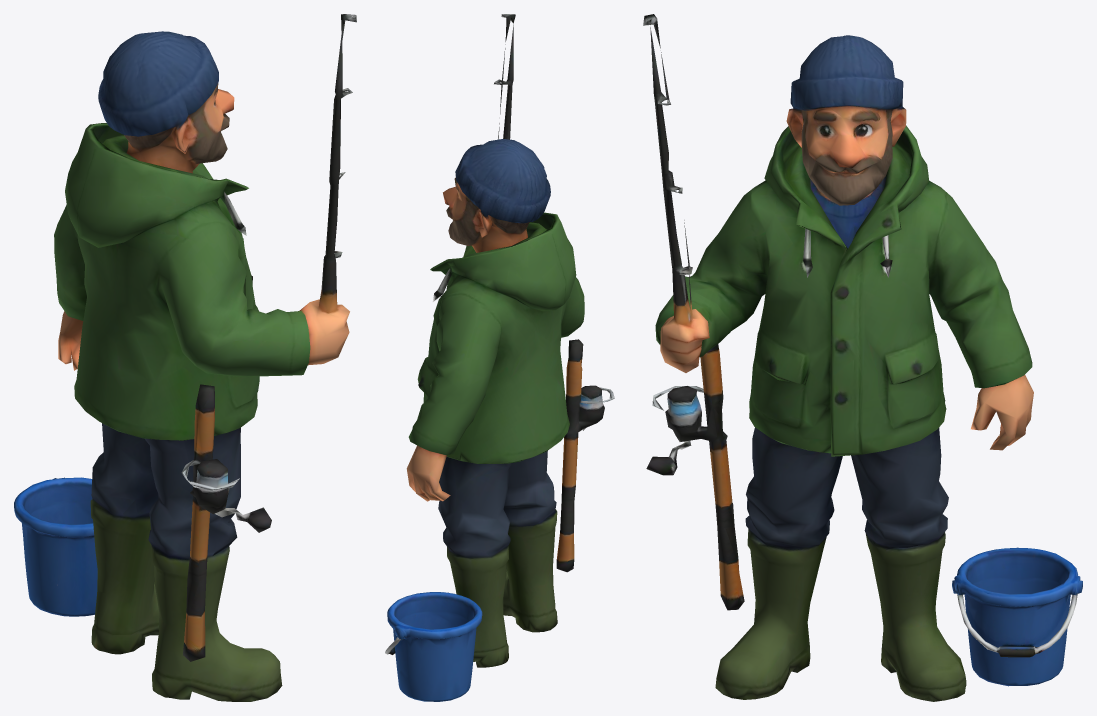
The model's file is m_balikci.glb.
The picture shows the model from 3 angles, left to right: view 1: azimuth 30°, elevation 25°; view 2: azimuth 150°, elevation 25°; view 3: azimuth 270°, elevation 25°; orthographic projection. The views are drawn at different scales.
Parts seen in each view (by area): view 1: tripo_node_384605b8-c7bb-4197-aabf-7f13b71251e2; view 2: tripo_node_384605b8-c7bb-4197-aabf-7f13b71251e2; view 3: tripo_node_384605b8-c7bb-4197-aabf-7f13b71251e2.
Part boxes in pixels (bbox=[...]): tripo_node_384605b8-c7bb-4197-aabf-7f13b71251e2: bbox=[14, 14, 356, 701]; tripo_node_384605b8-c7bb-4197-aabf-7f13b71251e2: bbox=[385, 14, 614, 701]; tripo_node_384605b8-c7bb-4197-aabf-7f13b71251e2: bbox=[643, 14, 1082, 701].
Size of the model in its own units: 0.2764 by 0.9771 by 0.5585.
Materials: 1 (1 with a texture image).
